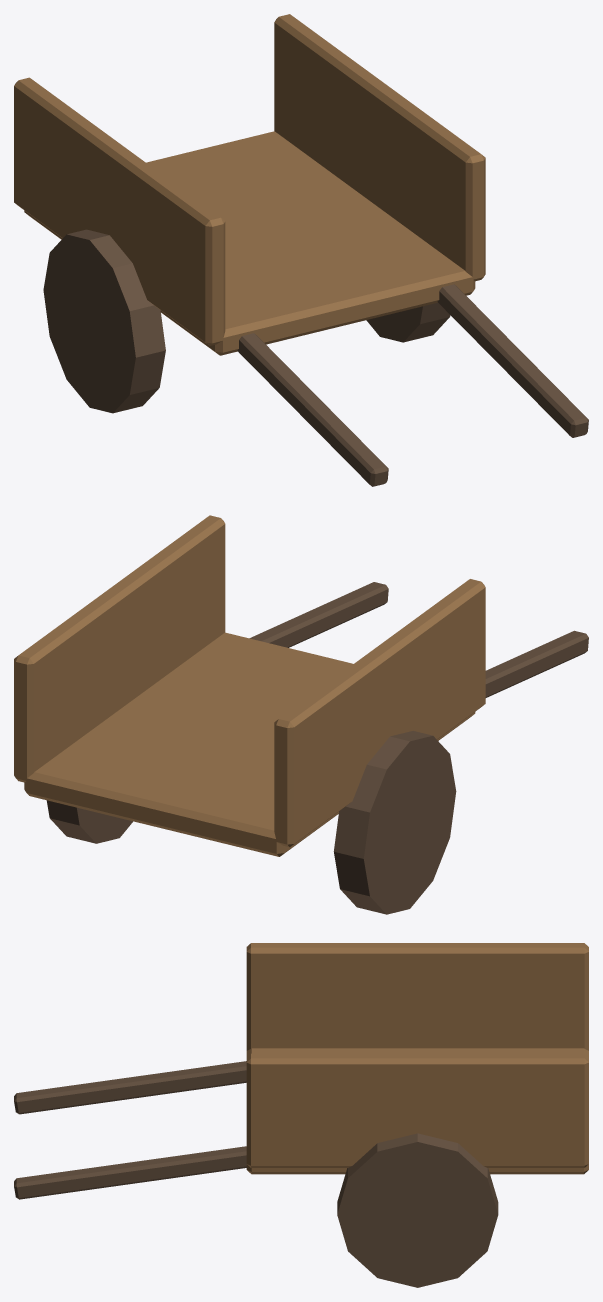
Rendered from vehicles-handcart.lod0.glb.
3 views of the same model, one above another, from view 1: azimuth 30°, elevation 25°; view 2: azimuth 150°, elevation 25°; view 3: azimuth 270°, elevation 25° (orthographic). The views are drawn at different scales.
Parts seen in each view (by area): view 1: vehicles-handcart__body; view 2: vehicles-handcart__body; view 3: vehicles-handcart__body.
Part boxes in pixels (x1=…): vehicles-handcart__body: x1=14, y1=14, x2=588, y2=486; vehicles-handcart__body: x1=14, y1=515, x2=588, y2=914; vehicles-handcart__body: x1=14, y1=943, x2=588, y2=1287.
Size of the model in its own units: 1.6 by 1.2 by 2.85.
